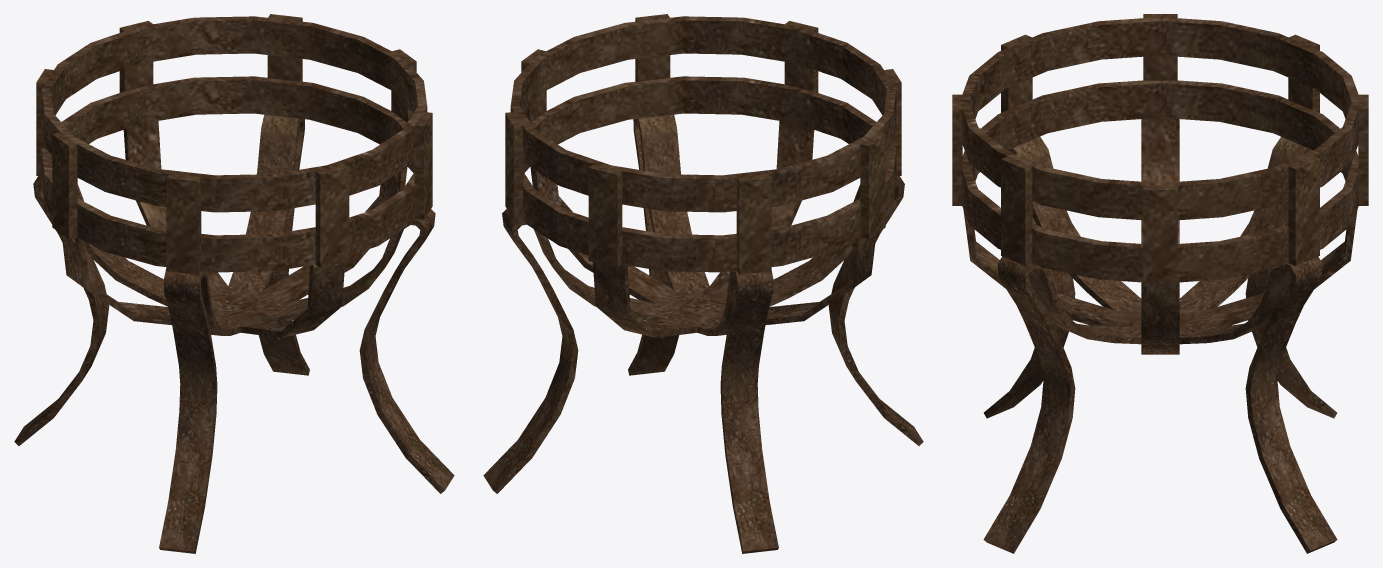
File: wall_brazier.fbx
3 views of the same model, side by side, from view 1: azimuth 30°, elevation 25°; view 2: azimuth 150°, elevation 25°; view 3: azimuth 270°, elevation 25° (orthographic). The views are drawn at different scales.
Visible parts, largest first — view 1: Muralla3.493; view 2: Muralla3.493; view 3: Muralla3.493.
Part boxes in pixels (x1,y1,x2,y2): Muralla3.493: (14,14,454,553); Muralla3.493: (483,14,923,553); Muralla3.493: (952,14,1368,553).
Size of the model in its own units: 40.78 by 40.91 by 40.78.
Materials: 1 (1 with a texture image).
